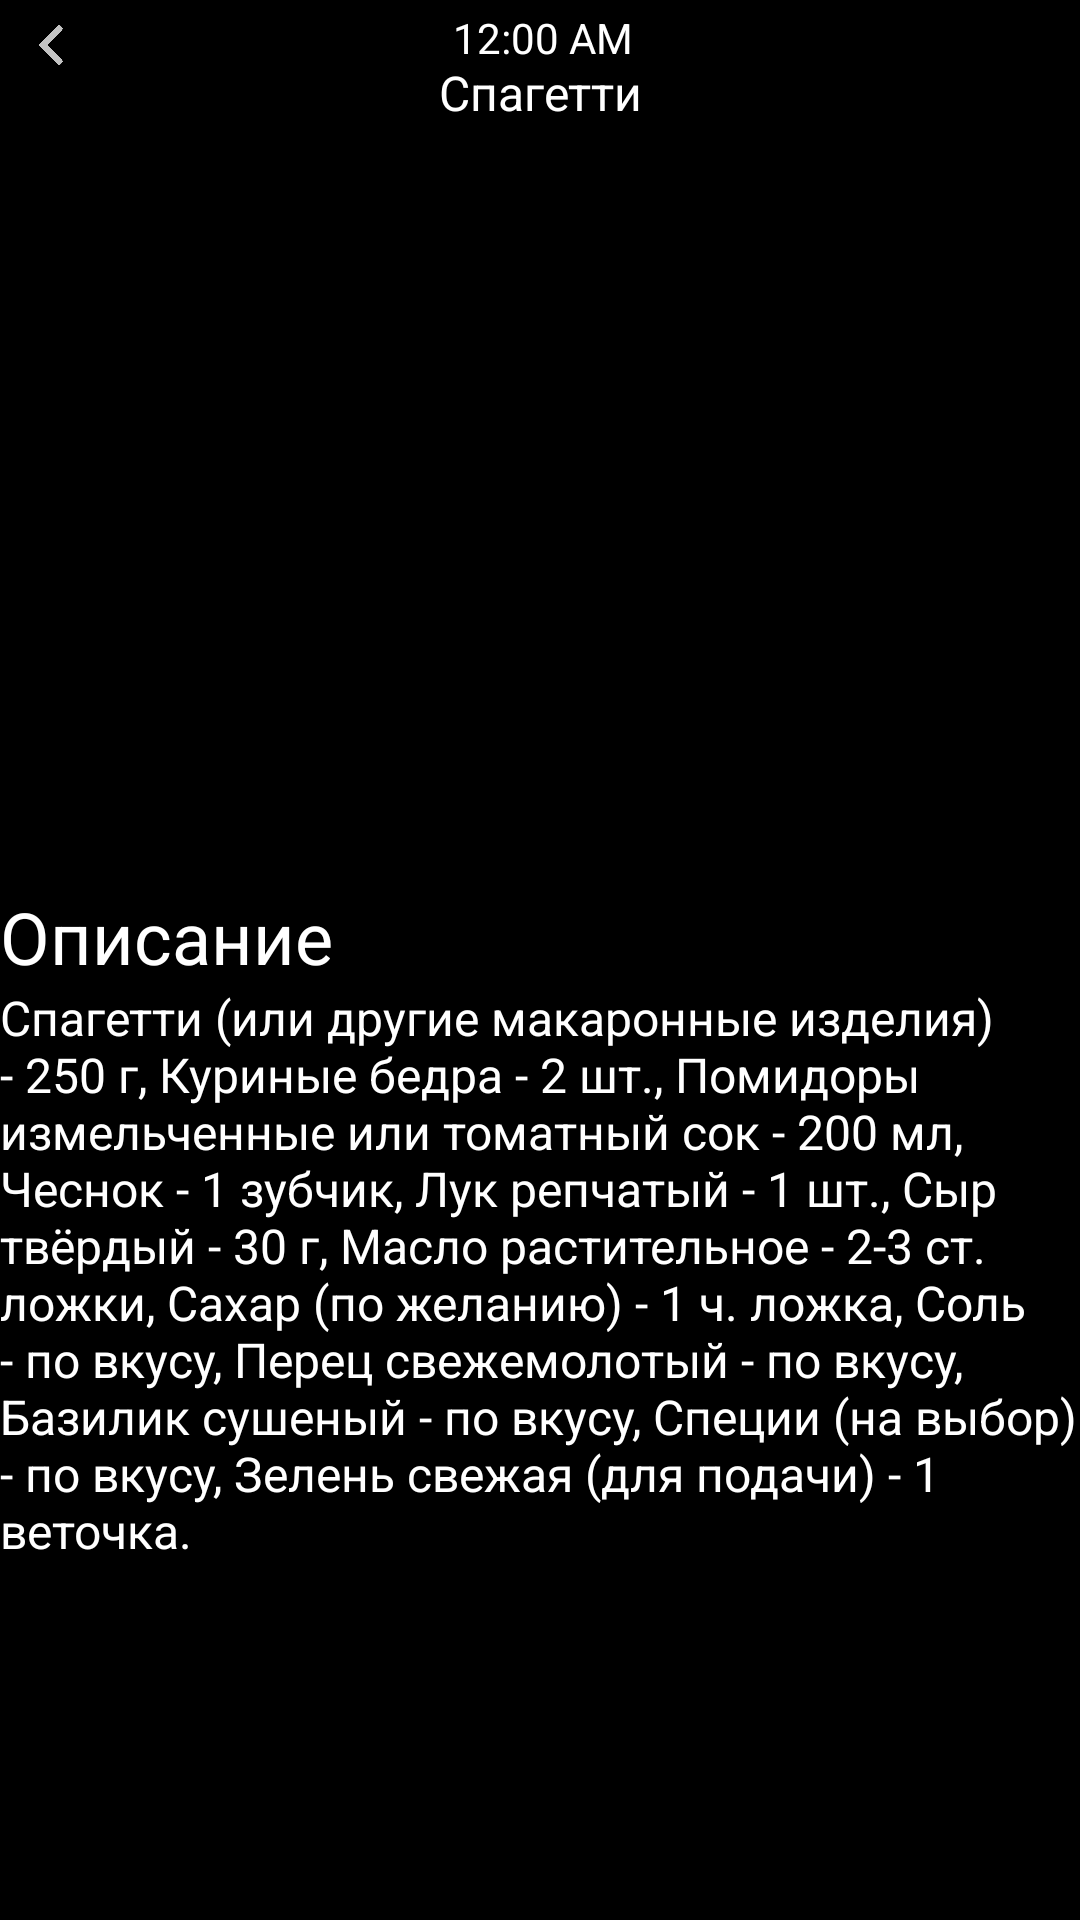

Icon click points for this 1080px×1920px phone screenshot, format (x,y):
left arrow: (51,45)
